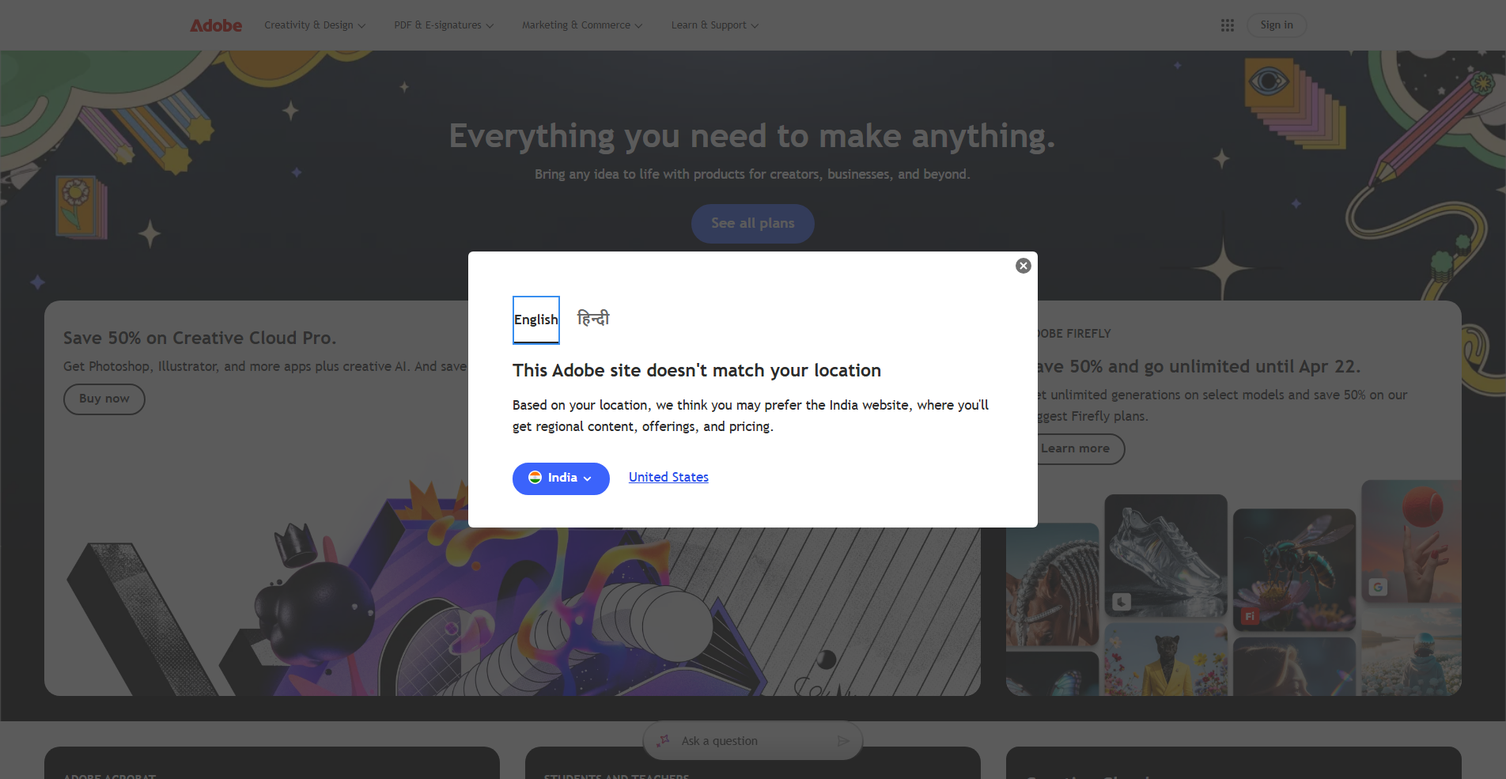button: (644, 722, 862, 760), (507, 0, 656, 50), (249, 0, 378, 50), (378, 0, 507, 50), (656, 0, 772, 50), (691, 204, 815, 244), (1025, 433, 1126, 465), (513, 462, 610, 495), (63, 384, 146, 415), (514, 297, 558, 343), (1247, 12, 1308, 38), (577, 297, 609, 343), (1215, 12, 1240, 38), (1013, 255, 1034, 276)
link: (44, 301, 981, 696), (1006, 301, 1462, 696), (44, 747, 500, 779), (525, 747, 981, 779), (184, 0, 249, 50), (629, 469, 709, 485)
